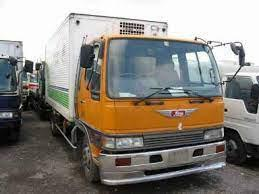truck: (43, 13, 226, 192)
